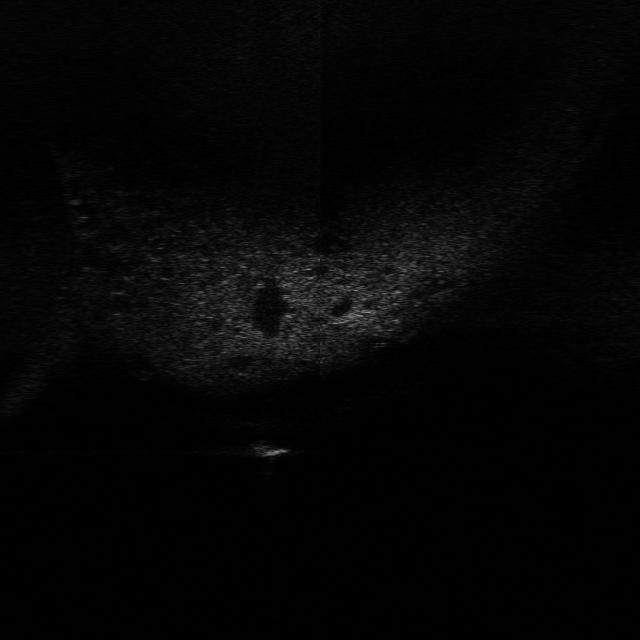cube: (234, 437, 297, 458)
